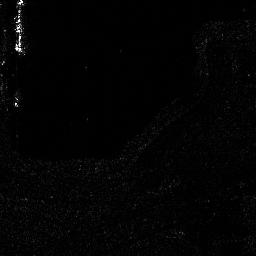ship: (13, 1, 26, 54)
